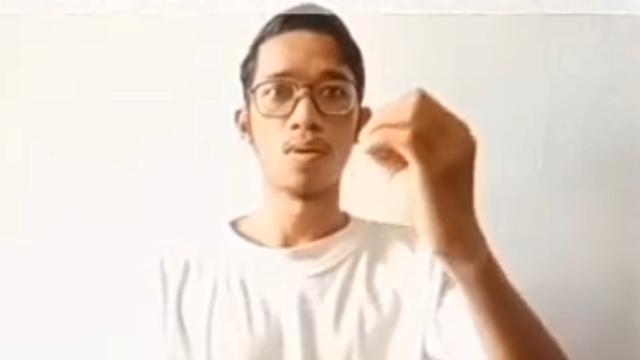O: (354, 84, 492, 252)
